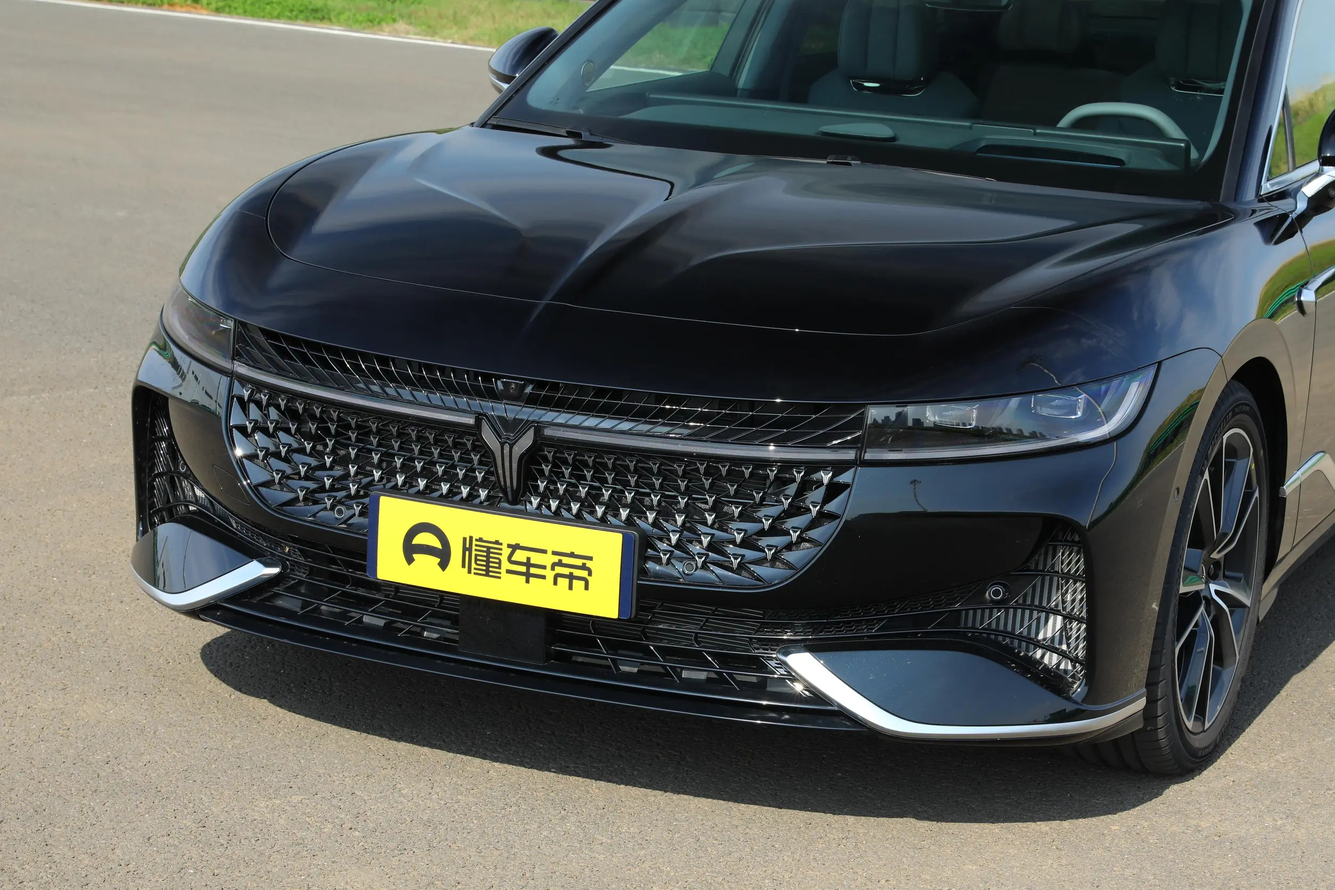VOYAH: (481, 420, 533, 501)
